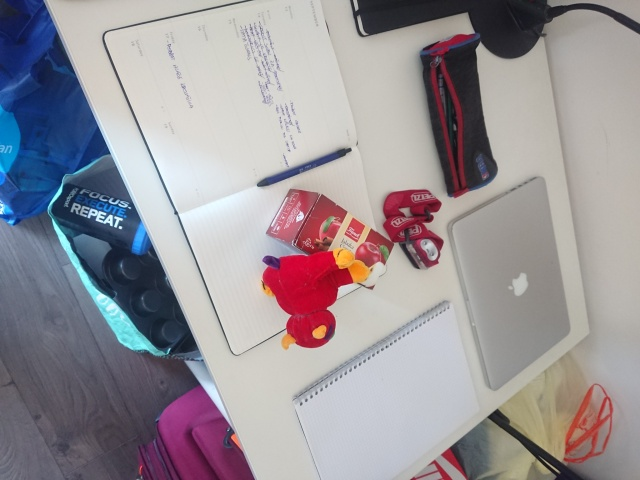Franck Apple Cinnamon Tea 60g: (263, 186, 395, 290)
